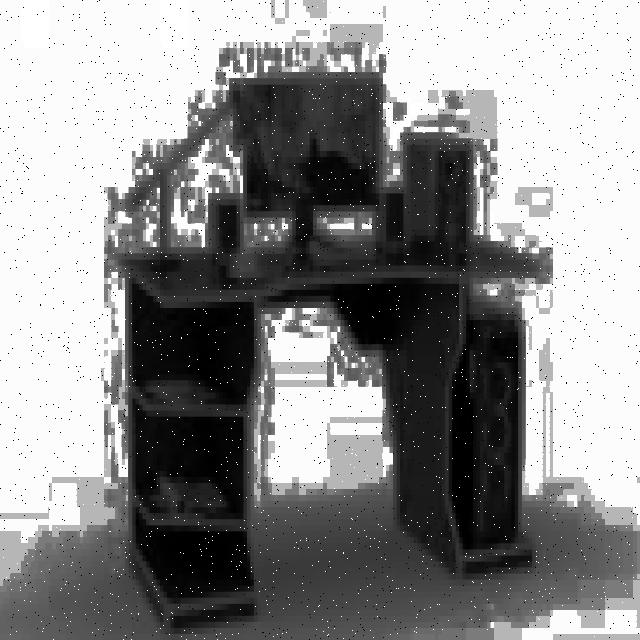table: (118, 229, 539, 628)
